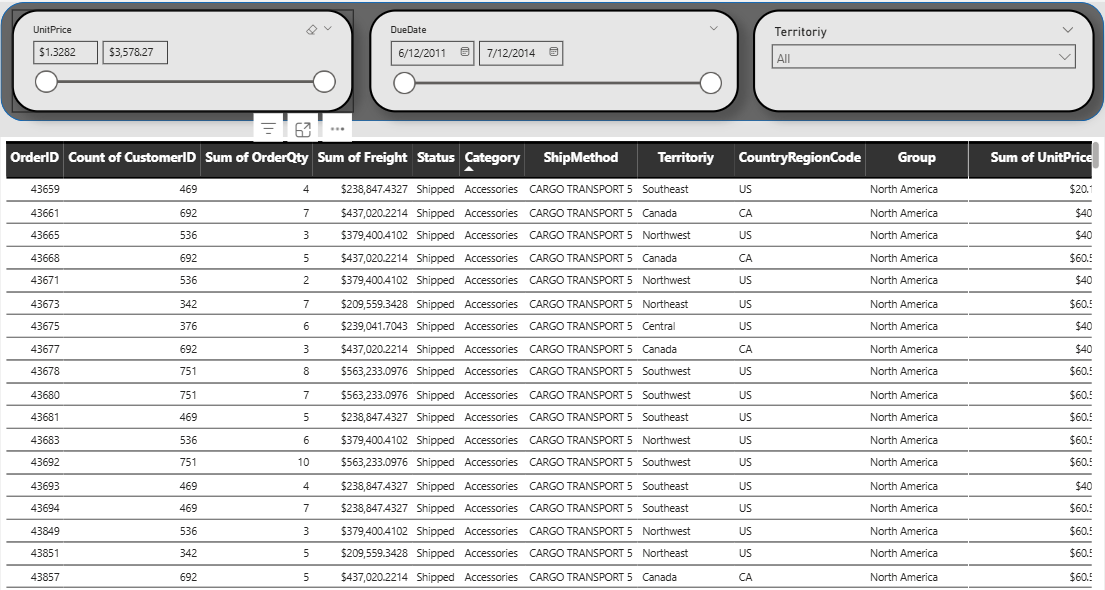

The page's visual inventory and layout, read from the dashboard file:
{"tool":"powerbi","page":{"name":"Details","canvas":[1280,720],"ordinal":1},"visuals":[{"type":"shape","box":[8.8,0,1261.2,136.2],"z":0},{"type":"tableEx","fields":{"Values":["Order Details.OrderID","CountNonNull(Orders.CustomerID)","Sum(Order Details.OrderQty)","Sum(Orders.Freight)","Orders.Status","Product Category.Category","Ship Methods.ShipMethod","Territories.Territoriy","Territories.CountryRegionCode","Territories.Group","Sum(Order Details.UnitPrice)"]},"box":[8.8,153.8,1261.2,566.2],"z":1000},{"type":"slicer","fields":{"Values":["Territories.Territoriy"]},"box":[868.8,8.8,390,117.5],"z":2000},{"type":"slicer","fields":{"Values":["Orders.DueDate"]},"box":[430,8.8,422.5,117.5],"z":3000},{"type":"slicer","fields":{"Values":["Order Details.UnitPrice"]},"box":[21.2,8.8,390,117.5],"z":4000}]}

Visuals, with their boxes on the page's 1280x720 design canvas (x1, y1, x2, y2). These are canvas units, not pixel positions in the 1105x590 screenshot, which may show the page scaled, cropped or inside an application window:
shape: l=9, t=0, r=1270, b=136
tableEx - Order Details.OrderID x CountNonNull(Orders.CustomerID): l=9, t=154, r=1270, b=720
slicer - Territories.Territoriy: l=869, t=9, r=1259, b=126
slicer - Orders.DueDate: l=430, t=9, r=852, b=126
slicer - Order Details.UnitPrice: l=21, t=9, r=411, b=126
